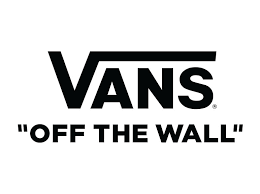vans: (47, 50, 219, 109)
